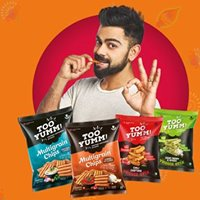plastic: (74, 121, 125, 192), (30, 108, 70, 191), (117, 117, 166, 183), (156, 110, 195, 173)
tooyumm: (32, 122, 64, 138), (78, 131, 109, 147), (126, 124, 153, 138), (164, 119, 187, 132)
wrapper: (19, 118, 72, 181), (73, 118, 116, 194), (119, 115, 162, 181), (159, 112, 196, 169)
